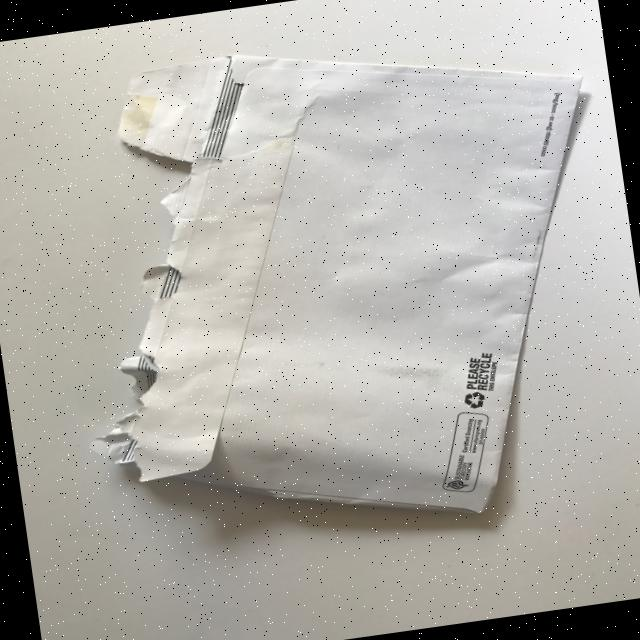paper: (38, 6, 640, 567)
